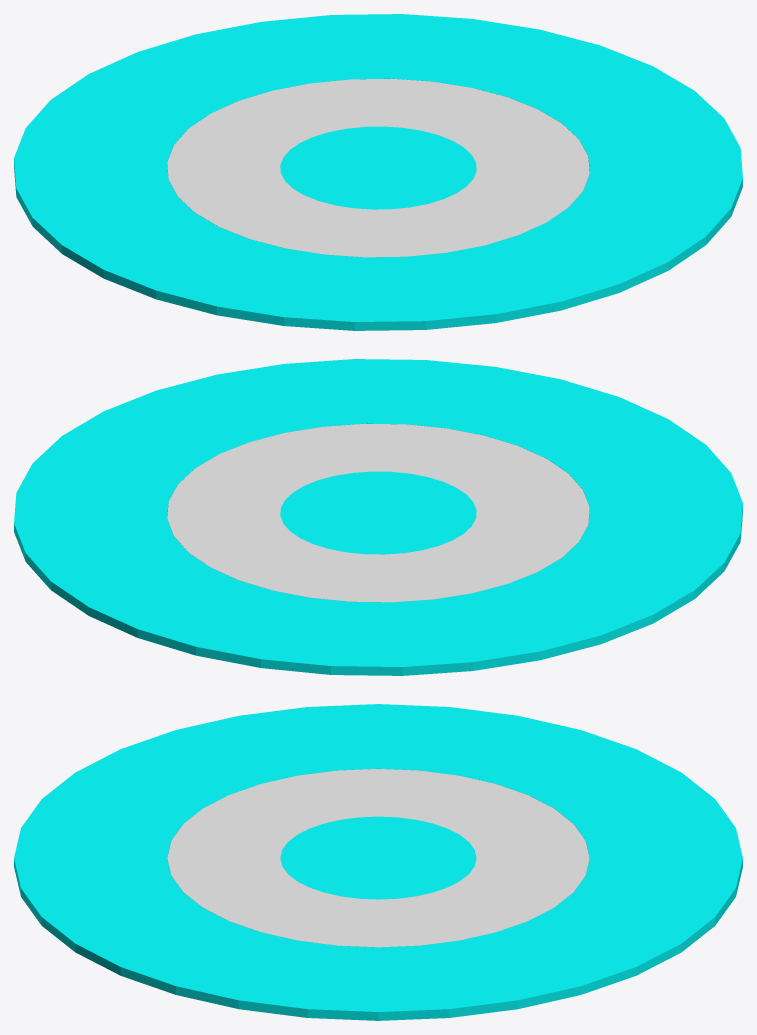
3 views of the same model, one above another, from view 1: azimuth 30°, elevation 25°; view 2: azimuth 150°, elevation 25°; view 3: azimuth 270°, elevation 25° (orthographic).
Parts seen in each view (by area): view 1: Cylinder, Cylinder.001, Cylinder.002; view 2: Cylinder, Cylinder.001, Cylinder.002; view 3: Cylinder, Cylinder.001, Cylinder.002.
Part boxes in pixels (x1,y1,x2,y2): Cylinder: [14, 14, 742, 330]; Cylinder.001: [167, 78, 589, 257]; Cylinder.002: [280, 126, 476, 209]; Cylinder: [14, 359, 742, 675]; Cylinder.001: [167, 423, 589, 602]; Cylinder.002: [280, 471, 476, 554]; Cylinder: [14, 704, 742, 1020]; Cylinder.001: [167, 769, 589, 947]; Cylinder.002: [280, 816, 476, 899].
Bounding box in the file's own units: 1804 × 24.28 × 1804.
